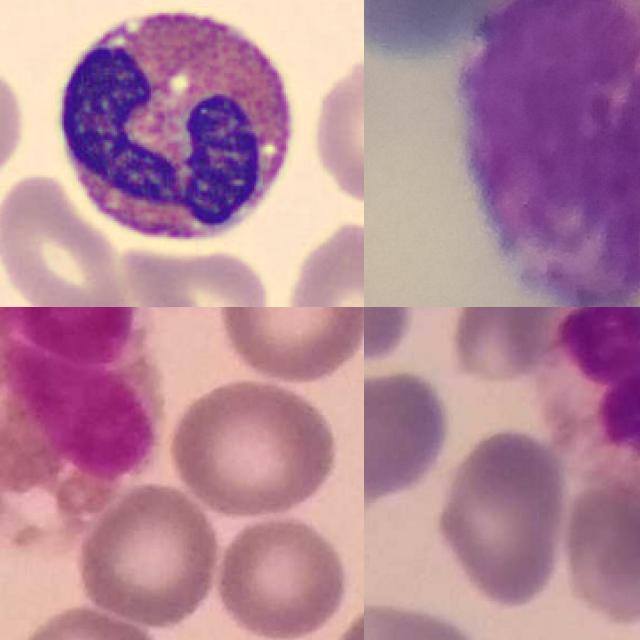Basophil: (460, 0, 640, 307)
Eosinophil: (40, 0, 309, 252), (0, 307, 167, 529)
Neutrophil: (545, 307, 640, 517)
RBC: (118, 242, 275, 307), (307, 53, 364, 210), (277, 216, 364, 307)
